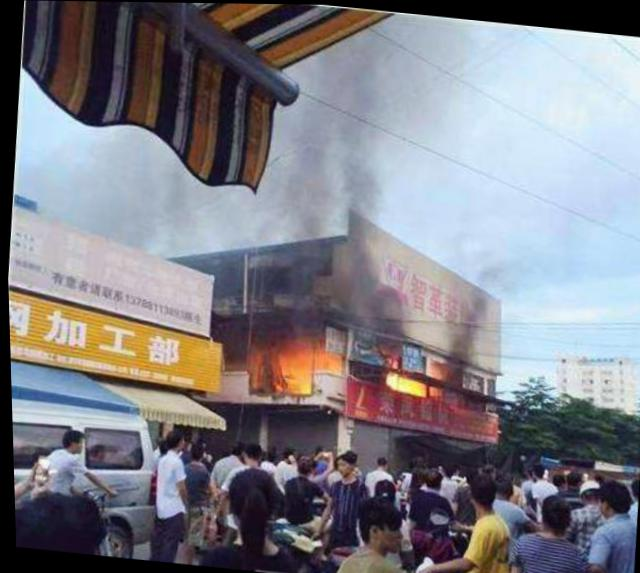fire: (237, 310, 354, 402), (378, 360, 440, 413)
